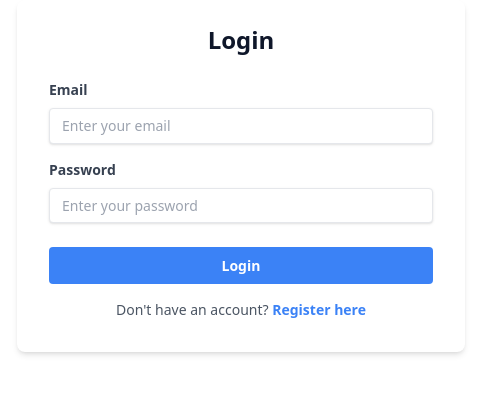
Test: LoginForm › should clear field error when user starts typing
Click the button "Login": point(241, 266) [49,247,433,284]
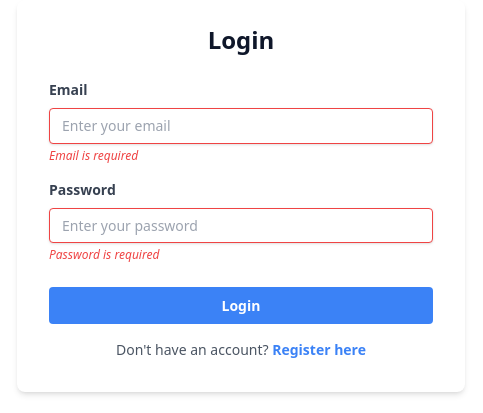
Check: the text "Email is required" is shown, box [49,146,138,164]
In the field labelled "Email": point(241, 126) [49,108,433,144], type "test@example.com"
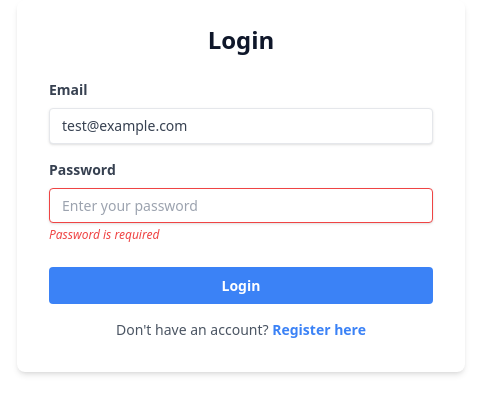
Check: the text "Email is required" is gone
